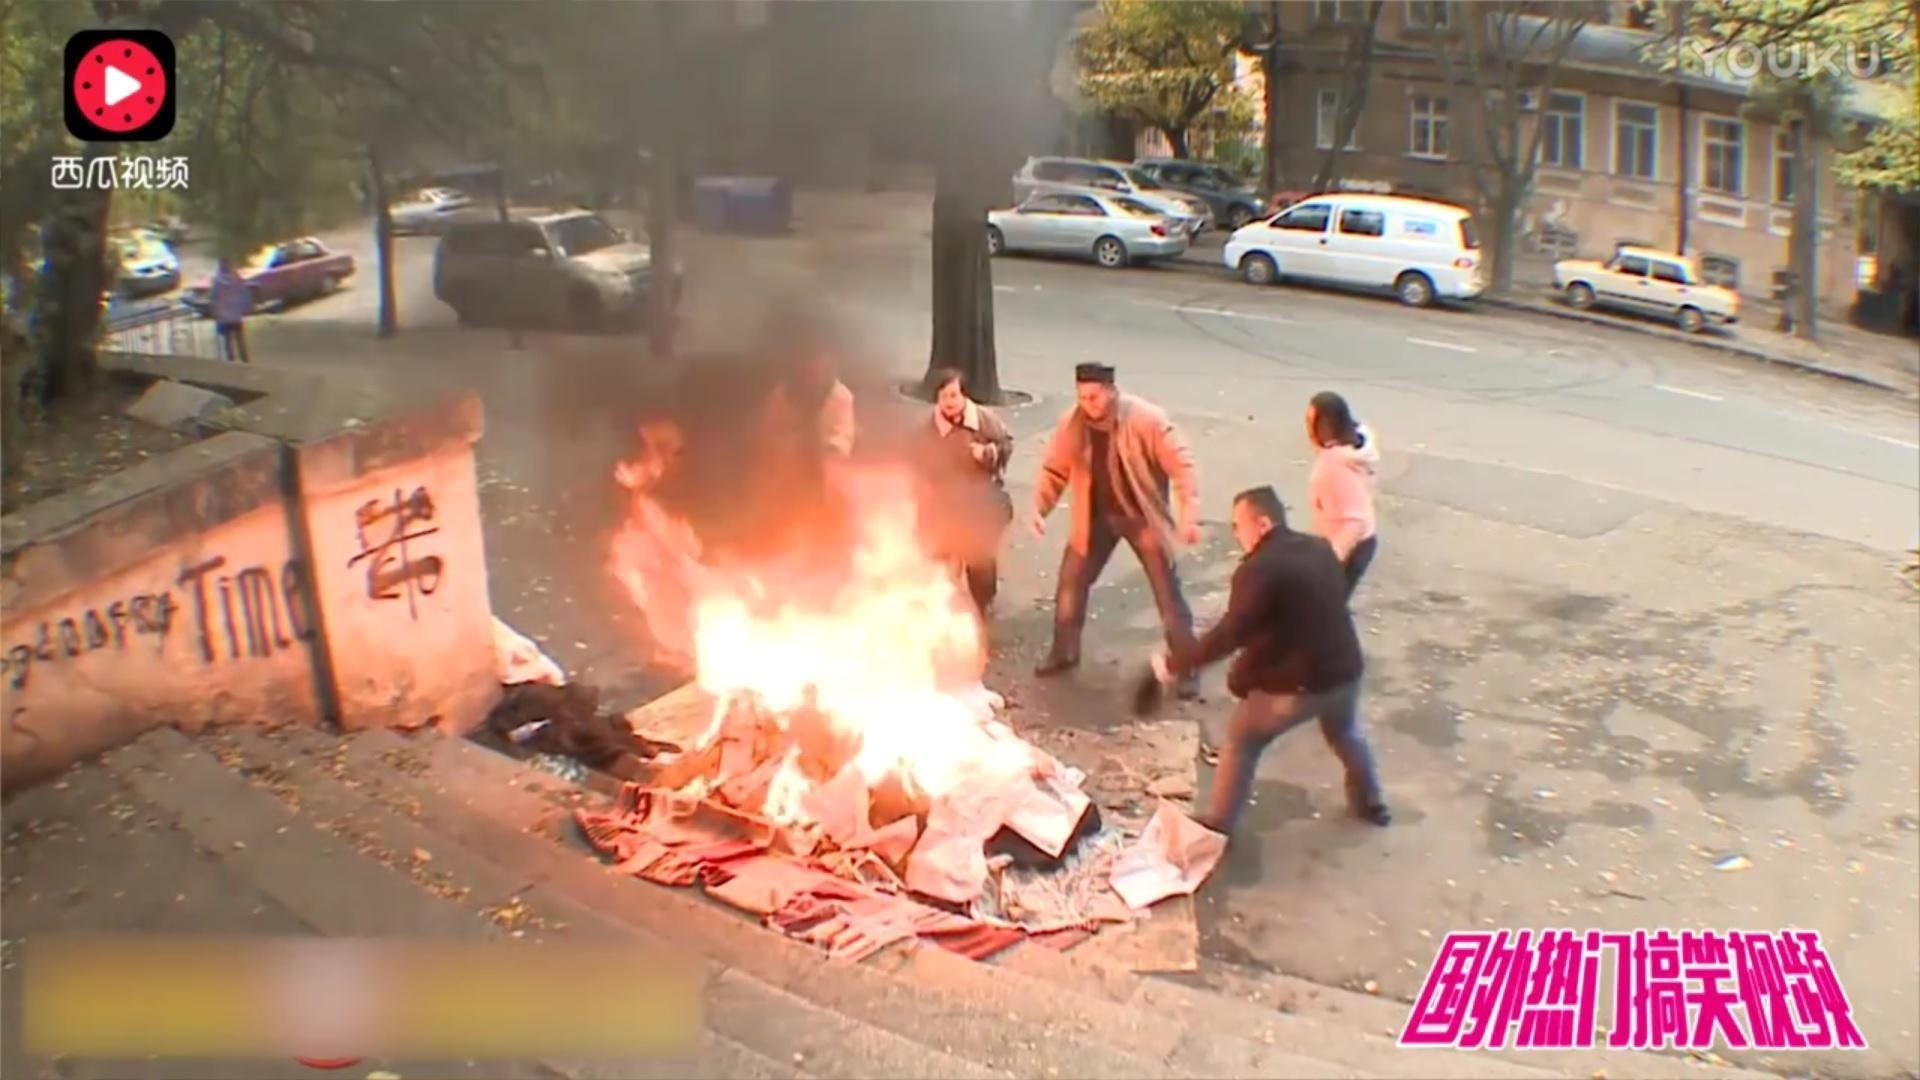fire: (628, 456, 1035, 814)
